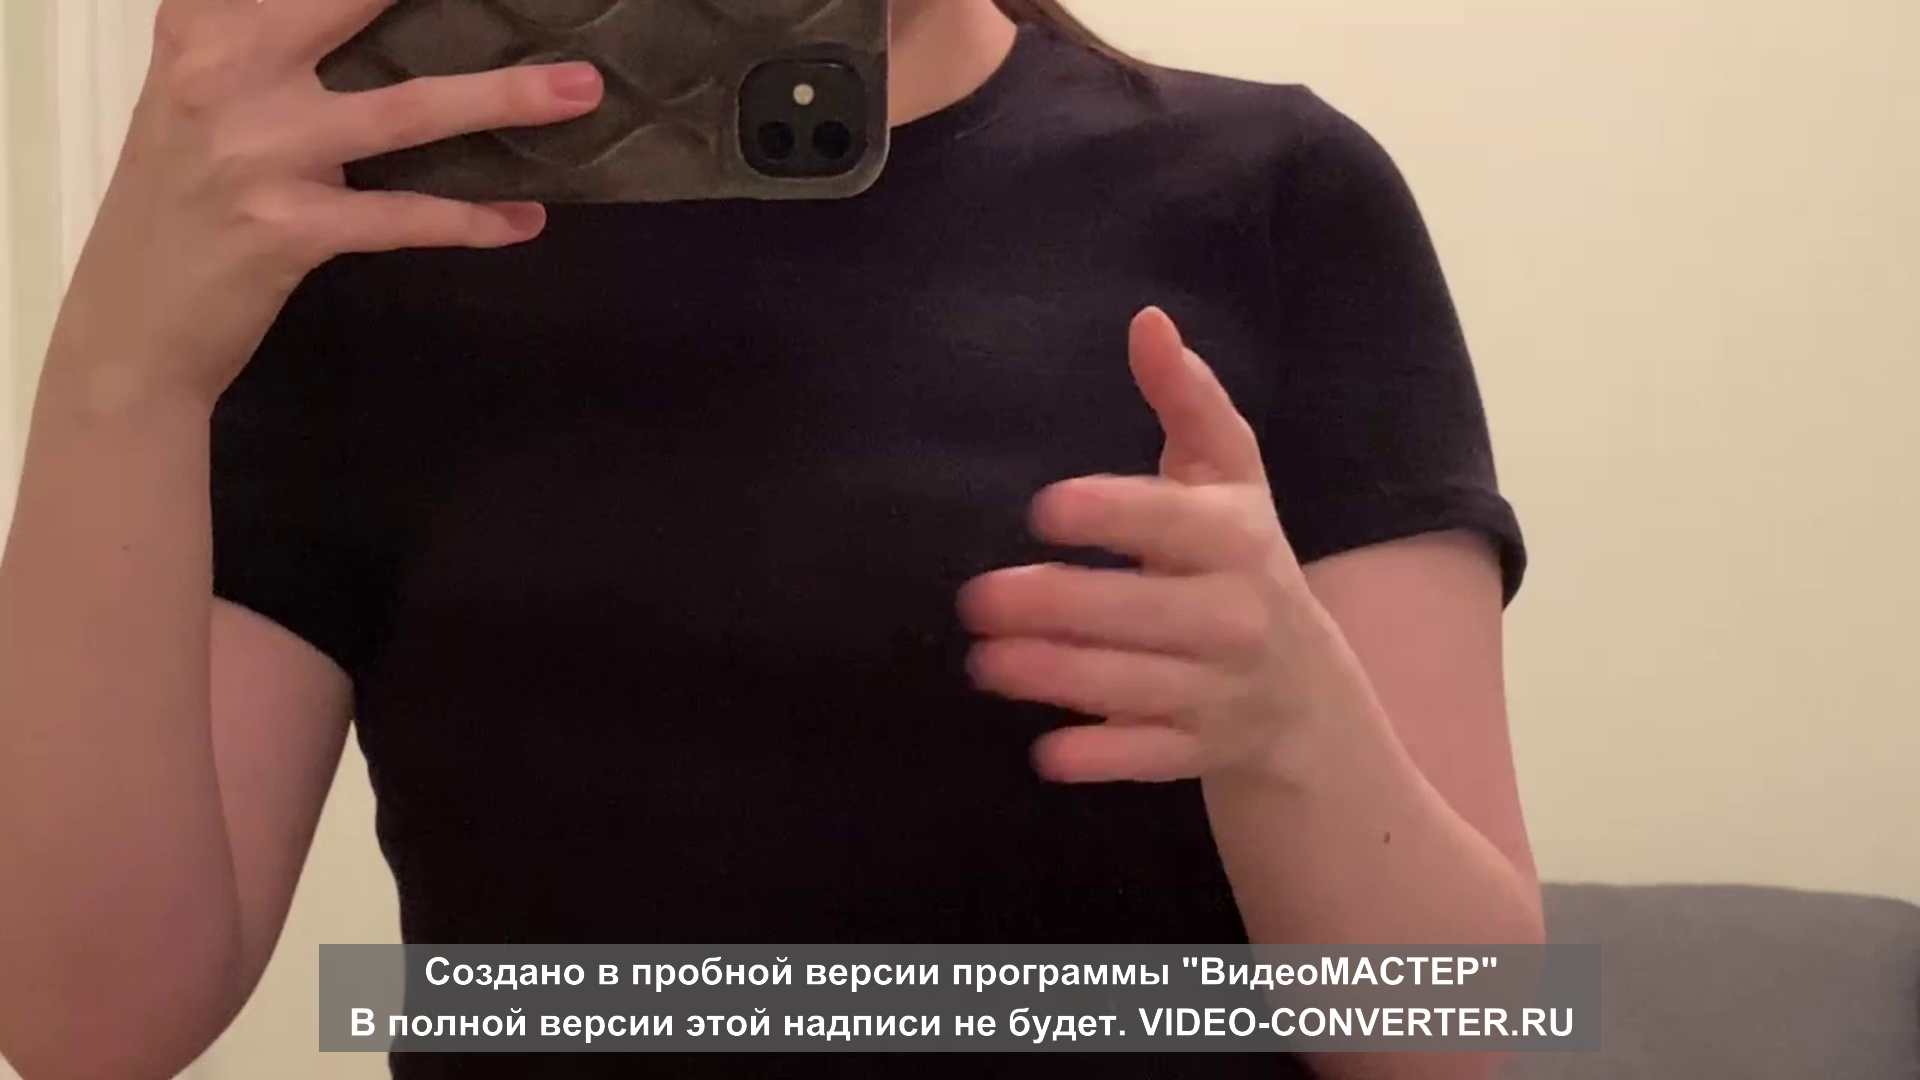Кисть: (964, 306, 1308, 786)
